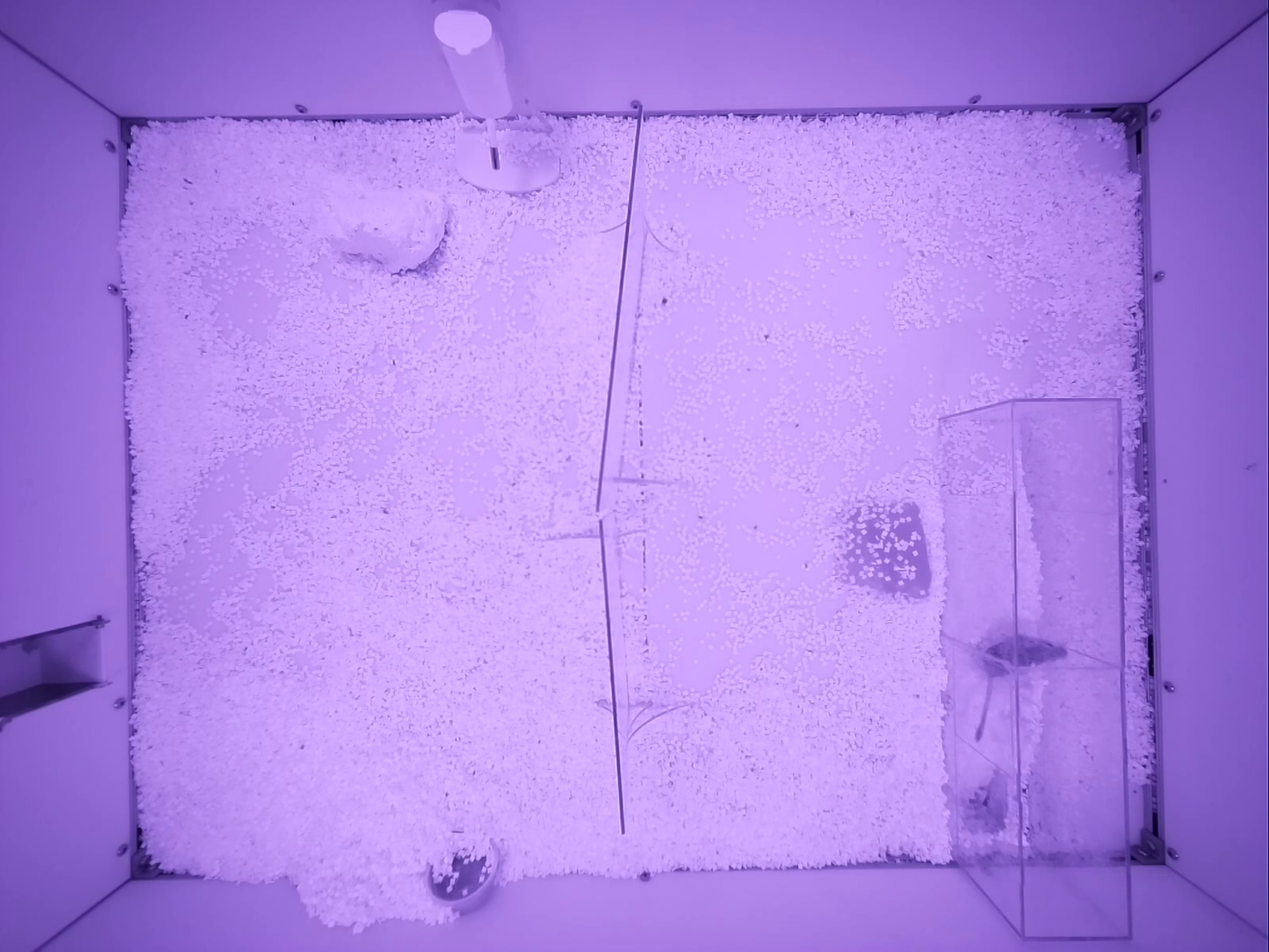adult_back: (982, 634, 1066, 678)
